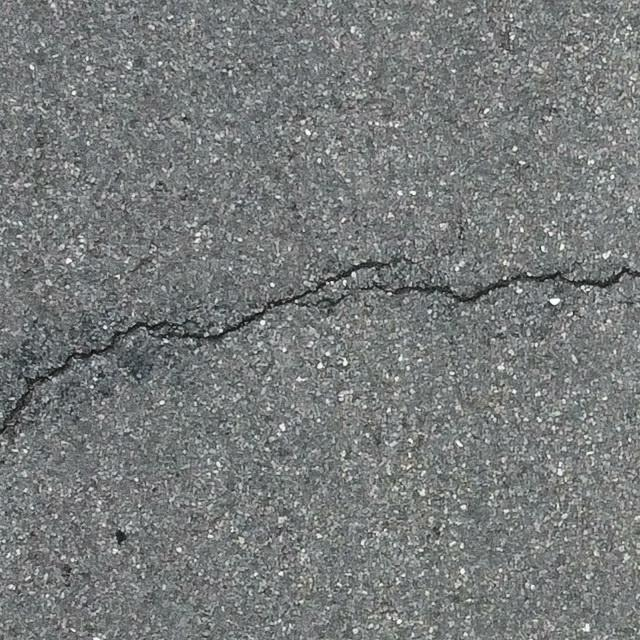TransverseCrack: (1, 257, 640, 434)
